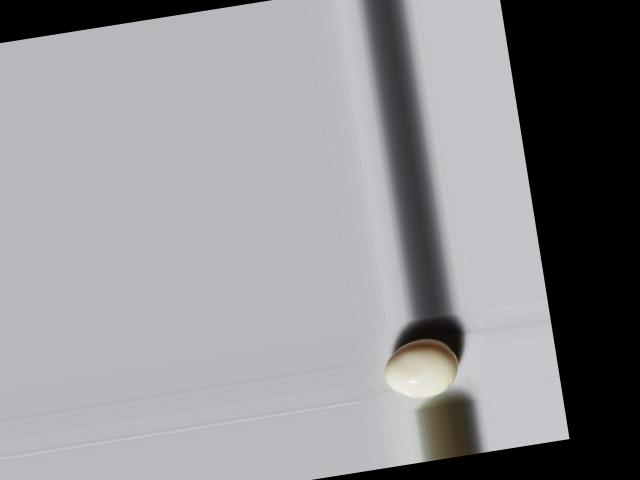egg: (381, 333, 463, 402)
